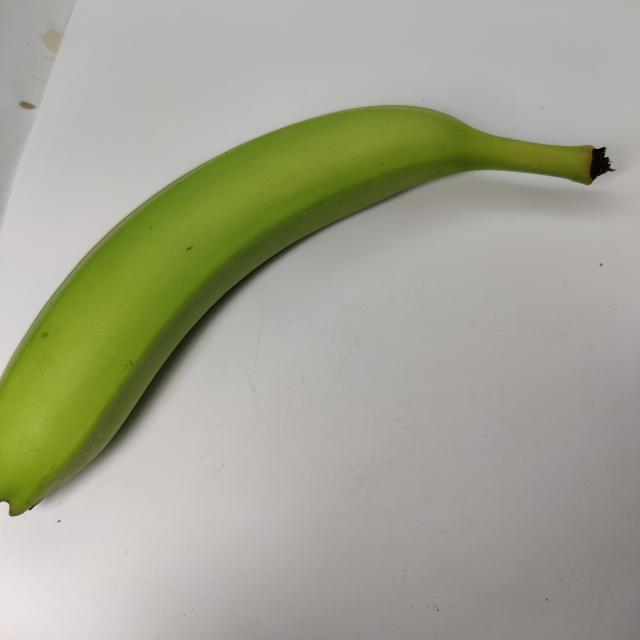raw: (0, 64, 627, 551)
